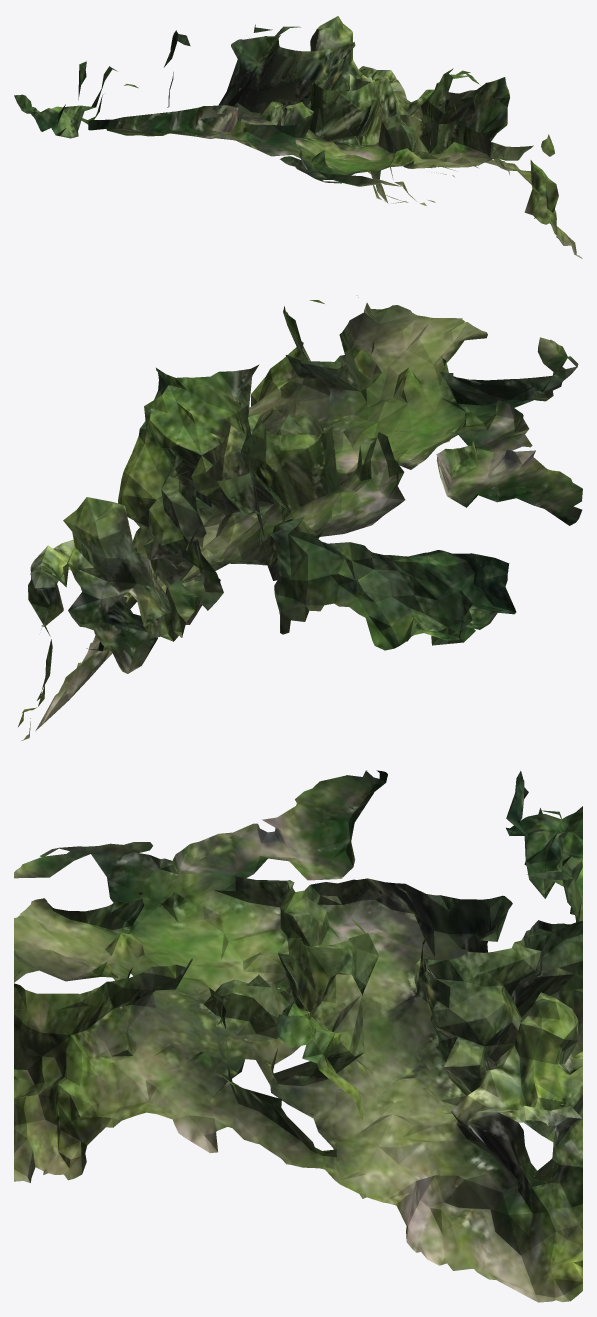
The picture shows the model from 3 angles, top to bottom: view 1: azimuth 30°, elevation 25°; view 2: azimuth 150°, elevation 25°; view 3: azimuth 270°, elevation 25°; orthographic projection. The views are drawn at different scales.
Bounding box in the file's own units: 26.11 × 14.77 × 26.11.
Materials: 4 (4 with a texture image).
